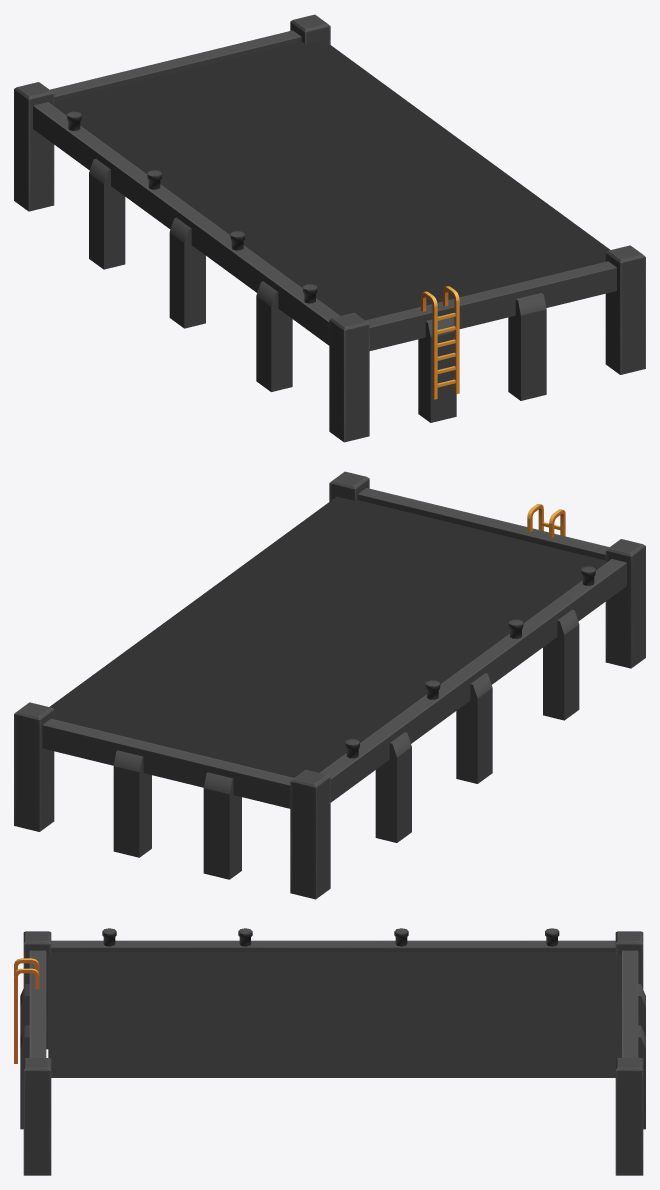
File: pirs(1).fbx
3 renders of one model, top to bottom at view 1: azimuth 30°, elevation 25°; view 2: azimuth 150°, elevation 25°; view 3: azimuth 270°, elevation 25°, orthographic. The views are drawn at different scales.
Visible parts, largest first — view 1: Object064; view 2: Object064; view 3: Object064.
Part boxes in pixels (<box>): Object064: <box>14,14,645,442</box>; Object064: <box>14,471,645,899</box>; Object064: <box>14,928,645,1175</box>.
Size of the model in its own units: 335 by 132 by 641.
